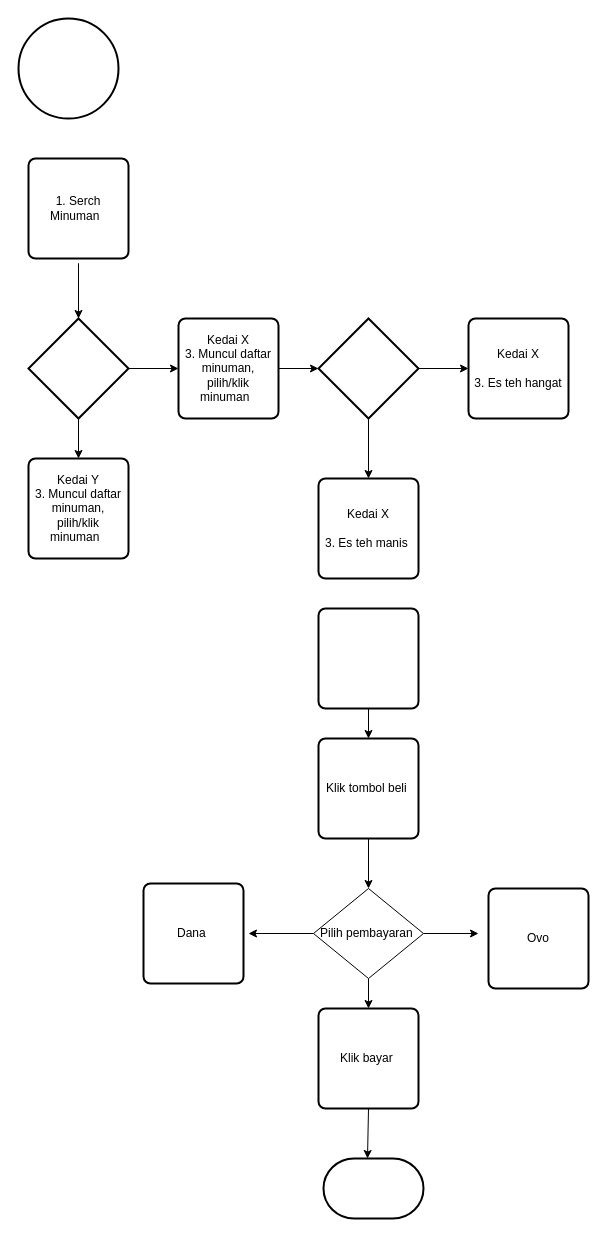
This 606x1236 diagram has some shape labels left out. Here are the shapes that lost their labels. From the top down, the centre of each, then its label:
(x=68, y=68): Start
(x=78, y=368): Pilih tempat
(x=368, y=368): Pilih menu minuman
(x=368, y=658): Masukan jumlah minuman
(x=373, y=1188): end
